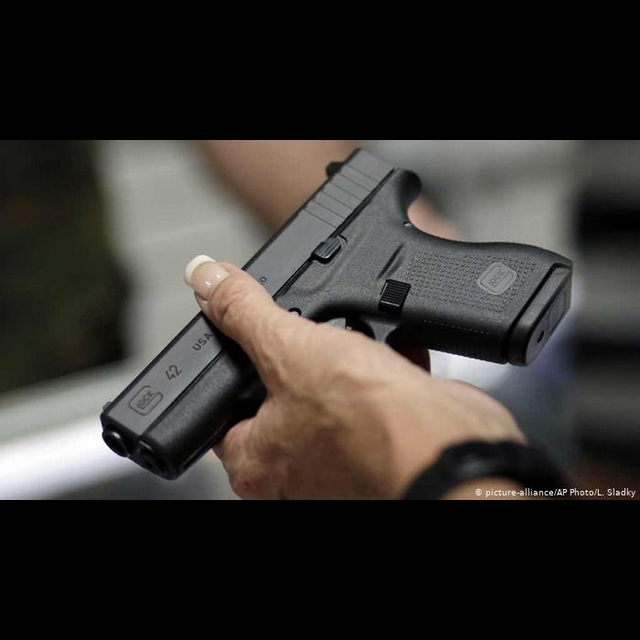SILAH: (85, 144, 589, 473)
